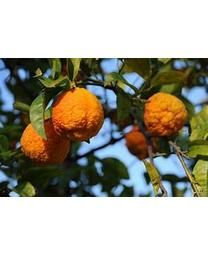lemon: (50, 86, 103, 140), (19, 118, 71, 165), (142, 91, 188, 139)
